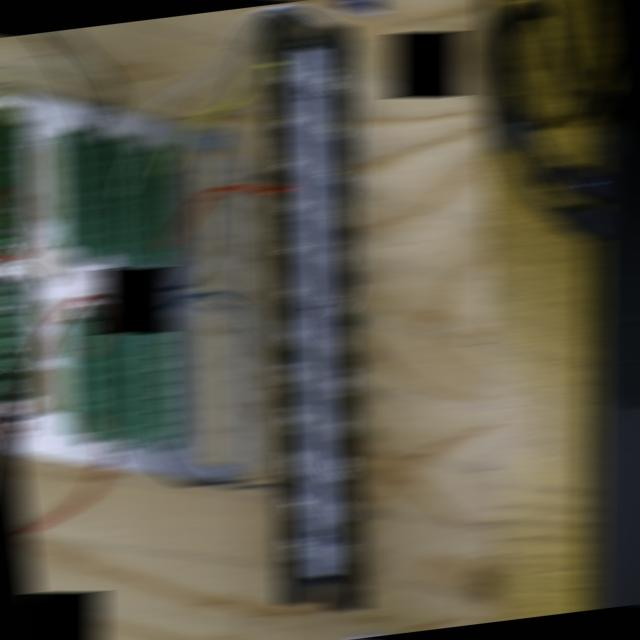Phillips_Block: (263, 9, 368, 613)
Terminal_1: (0, 120, 18, 240)
Terminal_2: (93, 139, 136, 260), (54, 131, 95, 252), (61, 318, 104, 433), (133, 149, 174, 269), (99, 325, 140, 441)
